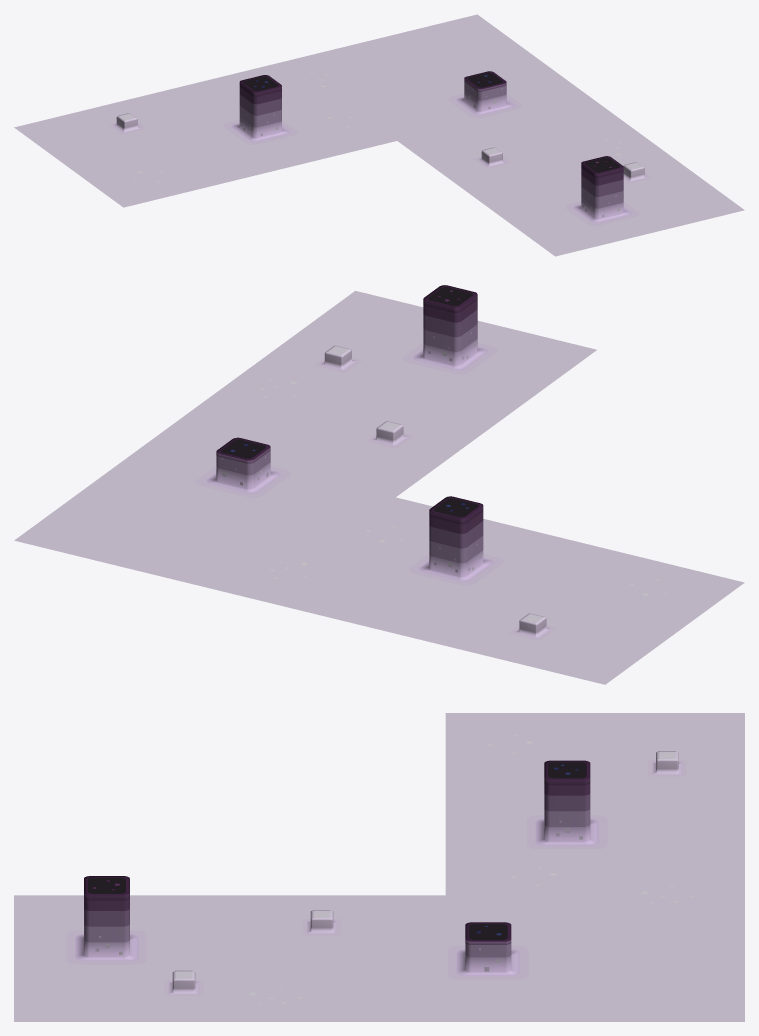
File: C_special1_out_LD.fbx
The picture shows the model from 3 angles, top to bottom: view 1: azimuth 30°, elevation 25°; view 2: azimuth 150°, elevation 25°; view 3: azimuth 270°, elevation 25°; orthographic projection. The views are drawn at different scales.
Visible parts, largest first — view 1: C_special1_out_LD; view 2: C_special1_out_LD; view 3: C_special1_out_LD.
Part boxes in pixels (x1,y1,x2,y2): C_special1_out_LD: [14, 14, 744, 256]; C_special1_out_LD: [14, 285, 744, 684]; C_special1_out_LD: [14, 713, 744, 1021].
Size of the model in its own units: 127 by 12.34 by 127.
